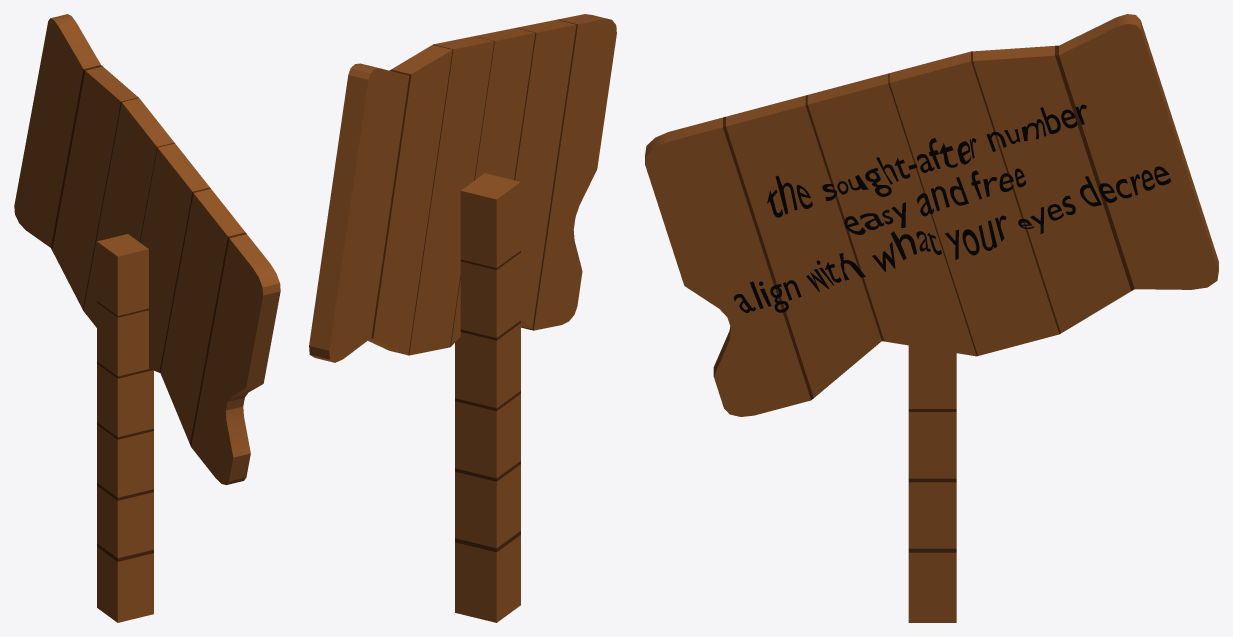
File: Sign.fbx
3 views of the same model, side by side, from view 1: azimuth 30°, elevation 25°; view 2: azimuth 150°, elevation 25°; view 3: azimuth 270°, elevation 25° (orthographic). The views are drawn at different scales.
Parts seen in each view (by area): view 1: Text; view 2: Text; view 3: Text.
Boxes of the visible parts, bbox=[...] form: Text: bbox=[14, 14, 280, 622]; Text: bbox=[309, 14, 616, 622]; Text: bbox=[645, 14, 1218, 622].
Size of the model in its own units: 70.01 by 712 by 610.
